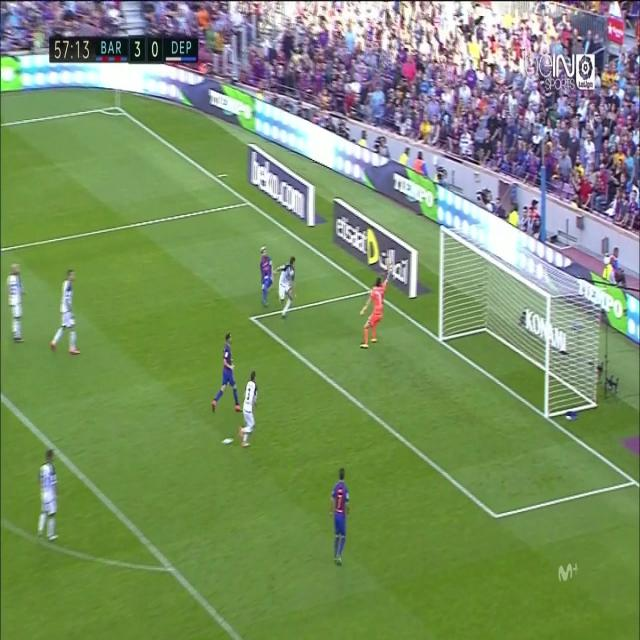Goalkeeper: (357, 263, 392, 353)
Player: (48, 264, 82, 360), (34, 445, 62, 549), (209, 331, 243, 416), (330, 463, 352, 570), (6, 261, 28, 347), (238, 370, 260, 452), (275, 253, 297, 324), (256, 244, 274, 310)
